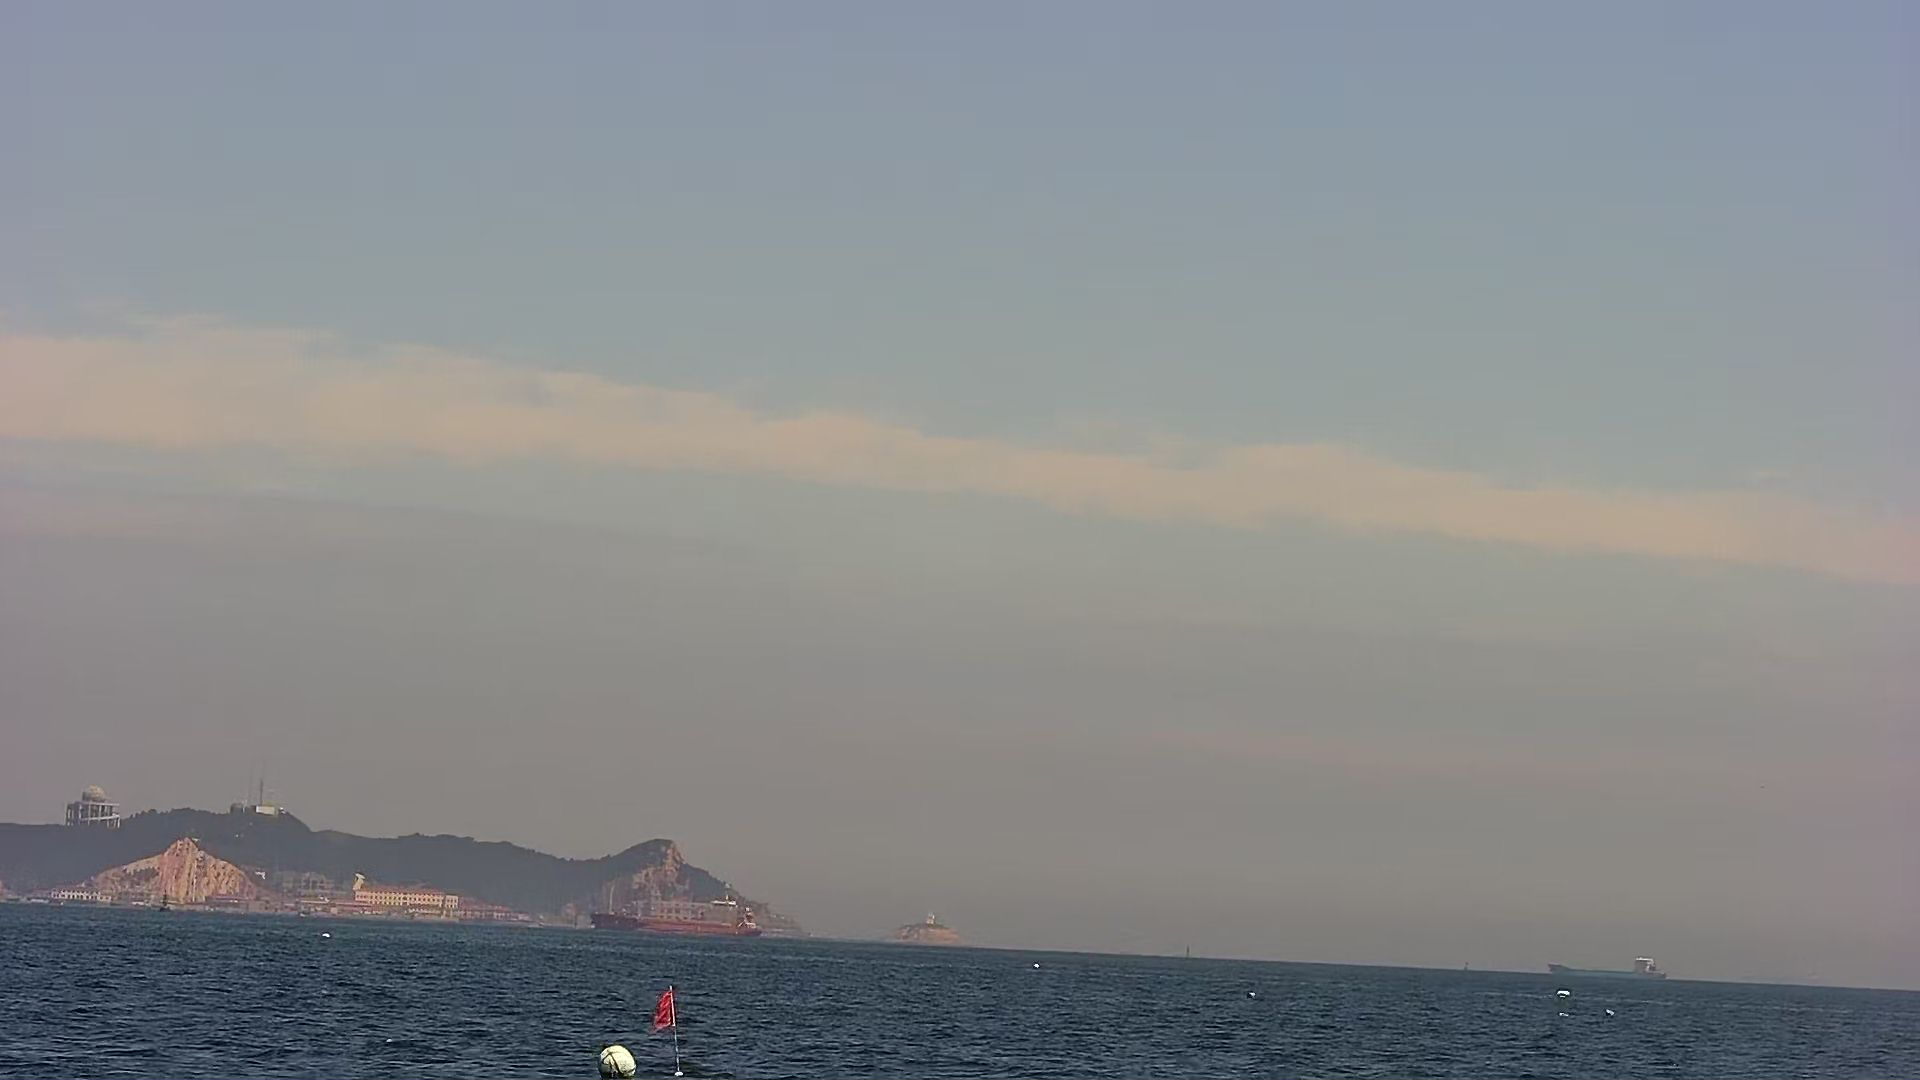ball: (579, 1030, 649, 1077), (1240, 985, 1270, 1006)
buoy: (645, 967, 705, 1077)
rock: (876, 898, 977, 952)
ship: (571, 887, 773, 940), (1534, 943, 1687, 985)
